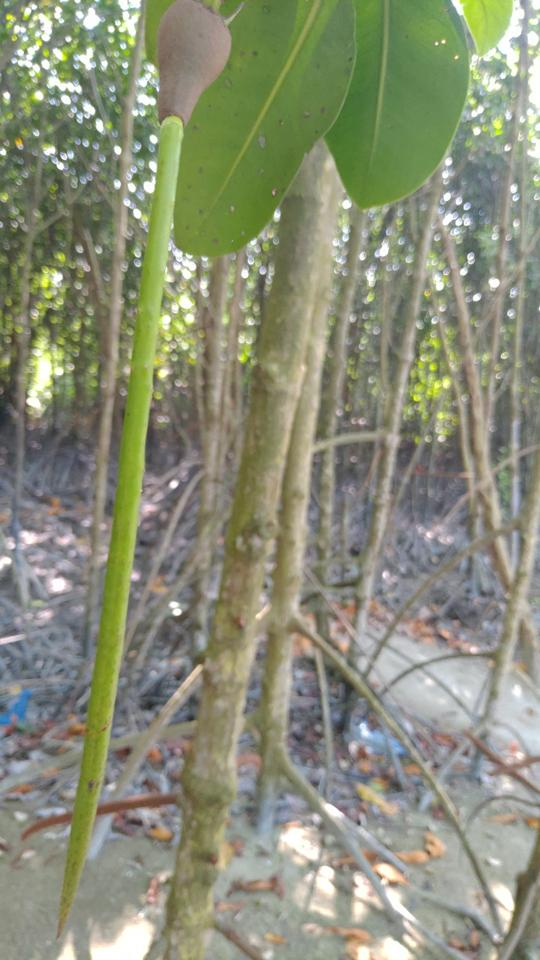setengah matang: (43, 1, 248, 951)
